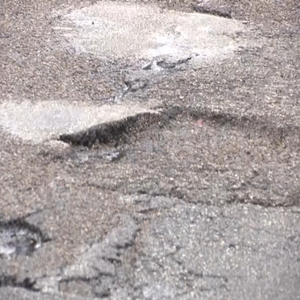pothole: (59, 103, 300, 210)
